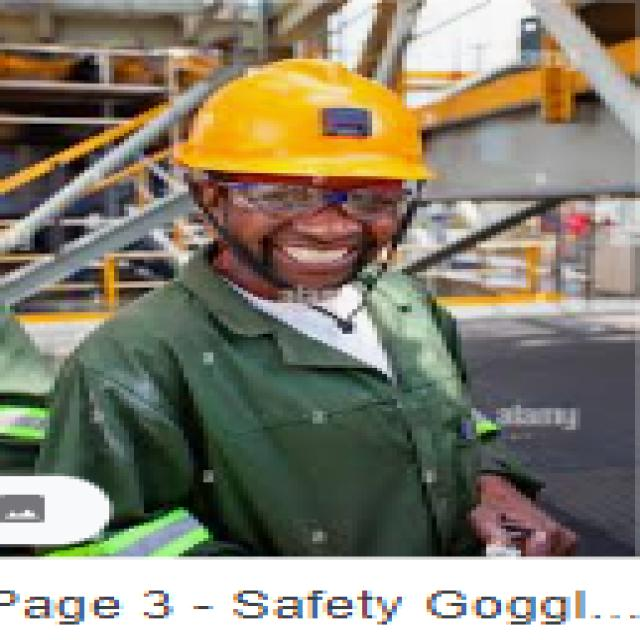glasses: (202, 165, 425, 228)
